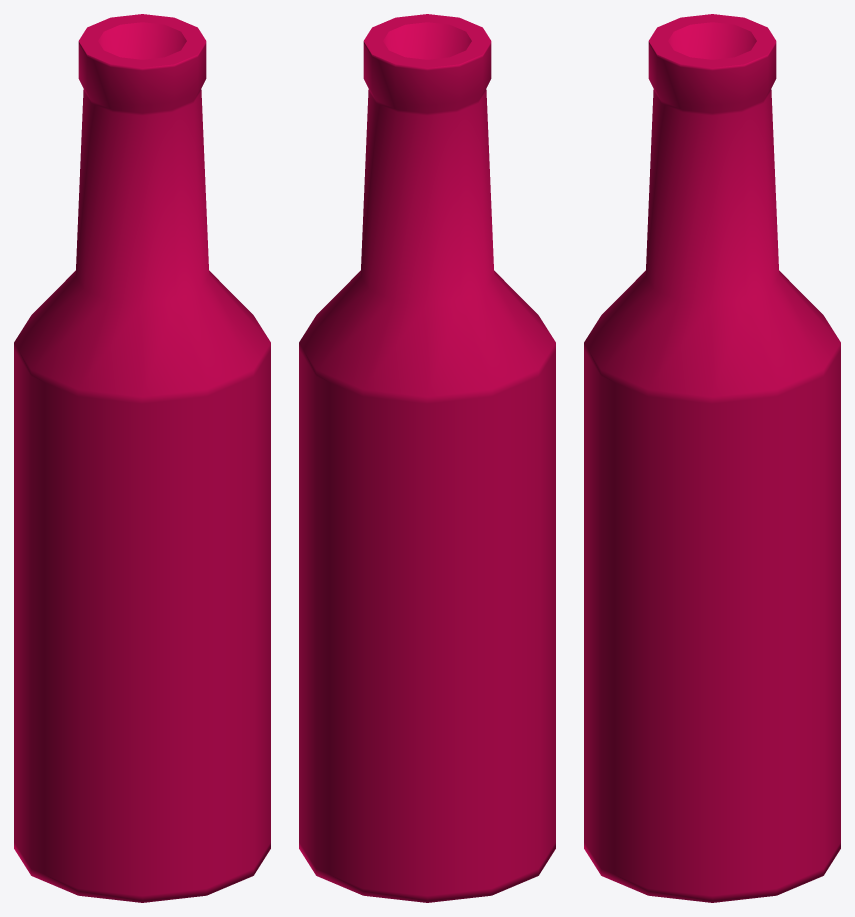
File: Bottle.fbx
The picture shows the model from 3 angles, left to right: view 1: azimuth 30°, elevation 25°; view 2: azimuth 150°, elevation 25°; view 3: azimuth 270°, elevation 25°; orthographic projection.
Visible parts, largest first — view 1: Bottle; view 2: Bottle; view 3: Bottle.
Boxes of the visible parts, left/top/right/bottom form: Bottle: left=14, top=14, right=270, bottom=902; Bottle: left=299, top=14, right=555, bottom=902; Bottle: left=584, top=14, right=840, bottom=902.
Size of the model in its own units: 200 by 694 by 200.
